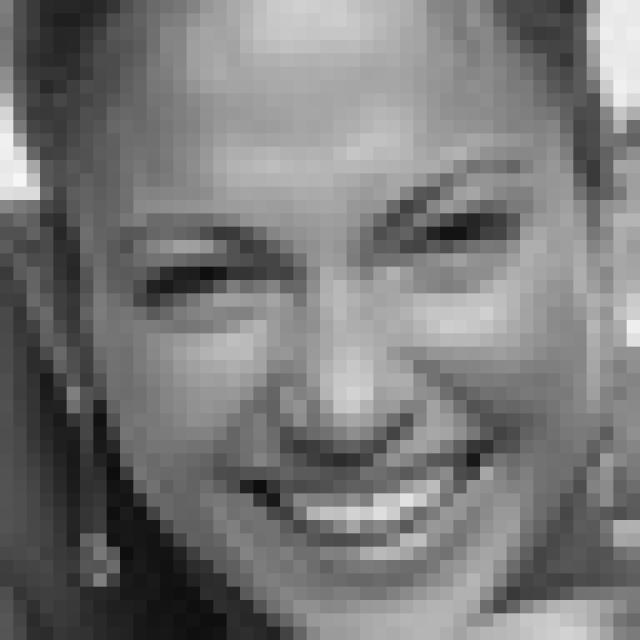happy: (103, 152, 539, 601)
